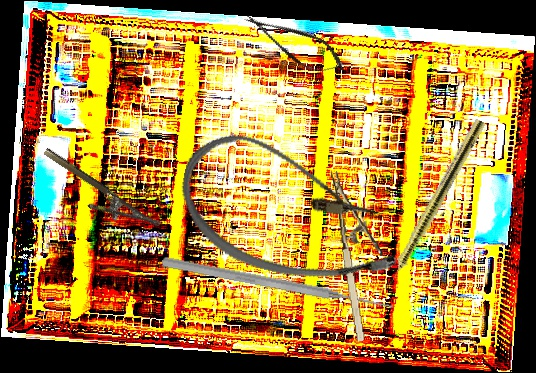Cannula: (166, 122, 418, 301)
Handpiece: (376, 116, 487, 301)
Micro Scissor: (237, 2, 352, 85)
Needle Holder: (32, 146, 162, 246), (330, 167, 394, 342)
Pusher: (160, 254, 397, 315)
